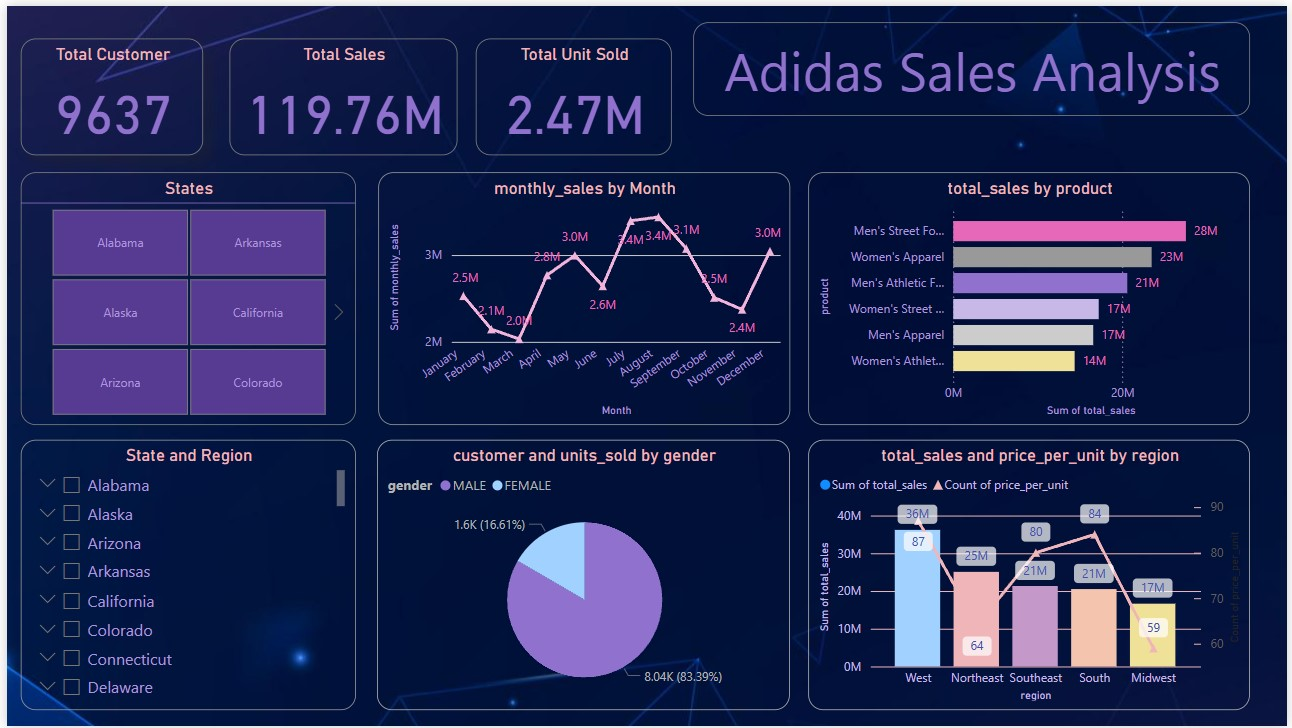

The page's visual inventory and layout, read from the dashboard file:
{"tool":"powerbi","page":{"name":"Page 1","canvas":[1280,720],"ordinal":0},"visuals":[{"type":"lineChart","title":" monthly_sales by Month","fields":{"Y":["Sum(codnera_project_adidas_sales.monthly_sales)"],"Category":["codnera_project_adidas_sales.invoice_date.Variation.Date Hierarchy.Month"]},"box":[371.9,166,411.7,252.5],"z":0},{"type":"barChart","title":" total_sales by product","fields":{"Y":["Sum(codnera_project_adidas_sales.total_sales)"],"Category":["codnera_project_adidas_sales.product"]},"box":[801.4,166,441.9,252.5],"z":1000},{"type":"pieChart","title":"customer and units_sold by gender","fields":{"Category":["codnera_project_adidas_sales.gender"],"Y":["CountNonNull(codnera_project_adidas_sales.customer)"]},"box":[370.5,433.6,413,270.3],"z":2000},{"type":"lineStackedColumnComboChart","title":" total_sales and  price_per_unit by region","fields":{"Category":["codnera_project_adidas_sales.region"],"Y":["Sum(codnera_project_adidas_sales.total_sales)"],"Y2":["Count(codnera_project_adidas_sales.price_per_unit)"]},"box":[801.4,433.6,441.9,270.3],"z":3000},{"type":"card","title":"Total Customer","fields":{"Values":["CountNonNull(codnera_project_adidas_sales.customer)"]},"box":[13.7,32.9,182.5,116.6],"z":4000},{"type":"card","title":"Total Sales","fields":{"Values":["Sum(codnera_project_adidas_sales.total_sales)"]},"box":[222.3,32.9,227.8,116.6],"z":5000},{"type":"card","title":"Total Unit Sold","fields":{"Values":["Sum(codnera_project_adidas_sales.units_sold)"]},"box":[469.3,32.9,196.2,116.6],"z":6000},{"type":"slicer","title":"States","fields":{"Values":["codnera_project_adidas_sales.state"]},"box":[13.7,166,334.8,252.5],"z":7000},{"type":"textbox","box":[686.1,16.5,557.1,93.3],"z":8000},{"type":"slicer","title":"State and Region","fields":{"Values":["codnera_project_adidas_sales.state","codnera_project_adidas_sales.sales_method"]},"box":[14,434,335,270],"z":8001}]}

Visuals, with their boxes in screenshot pixels (x1, y1, x2, y2), scaled from the page's 1280x720 canvas onto the 1292x728 screenshot:
" monthly_sales by Month" lineChart: (375, 168, 791, 423)
" total_sales by product" barChart: (809, 168, 1255, 423)
"customer and units_sold by gender" pieChart: (374, 438, 791, 712)
" total_sales and  price_per_unit by region" lineStackedColumnComboChart: (809, 438, 1255, 712)
"Total Customer" card: (14, 33, 198, 151)
"Total Sales" card: (224, 33, 454, 151)
"Total Unit Sold" card: (474, 33, 672, 151)
"States" slicer: (14, 168, 352, 423)
textbox: (693, 17, 1255, 111)
"State and Region" slicer: (14, 439, 352, 712)
